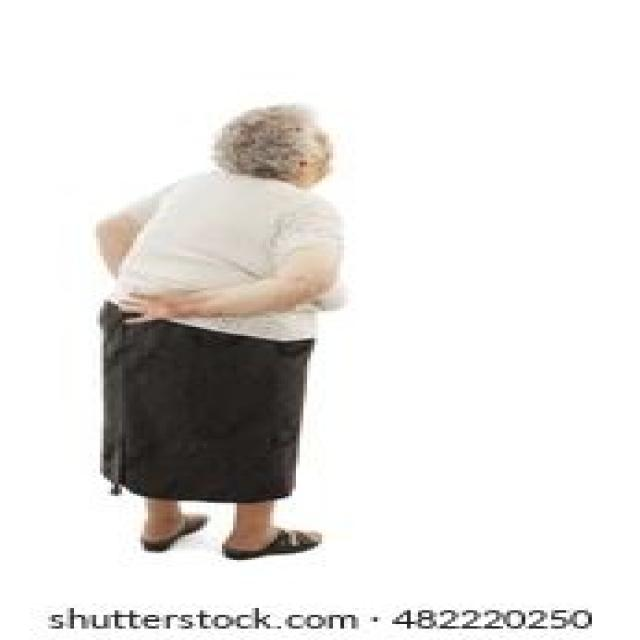idoso em pe: (80, 95, 372, 560)
